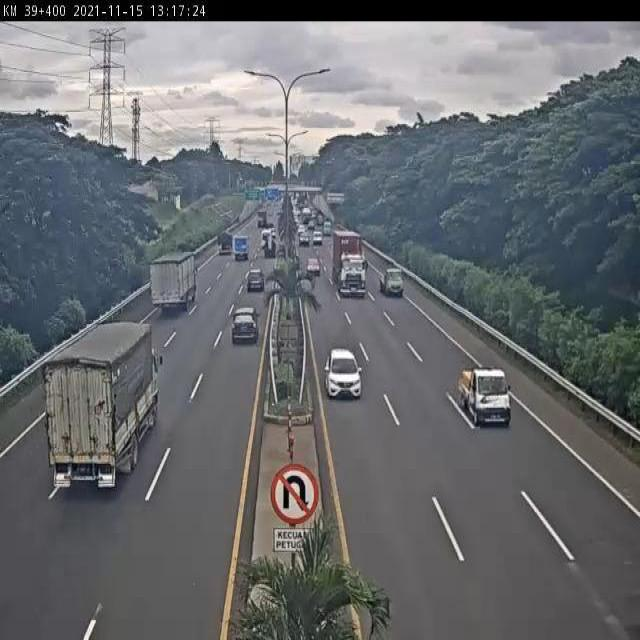car: (325, 349, 362, 399), (230, 308, 260, 347), (305, 256, 322, 277), (247, 268, 264, 289)
truck-m-: (44, 322, 160, 489), (151, 251, 198, 312)
truck-s-: (458, 366, 512, 426), (377, 264, 409, 300)
truck-xl-: (332, 230, 367, 298)
